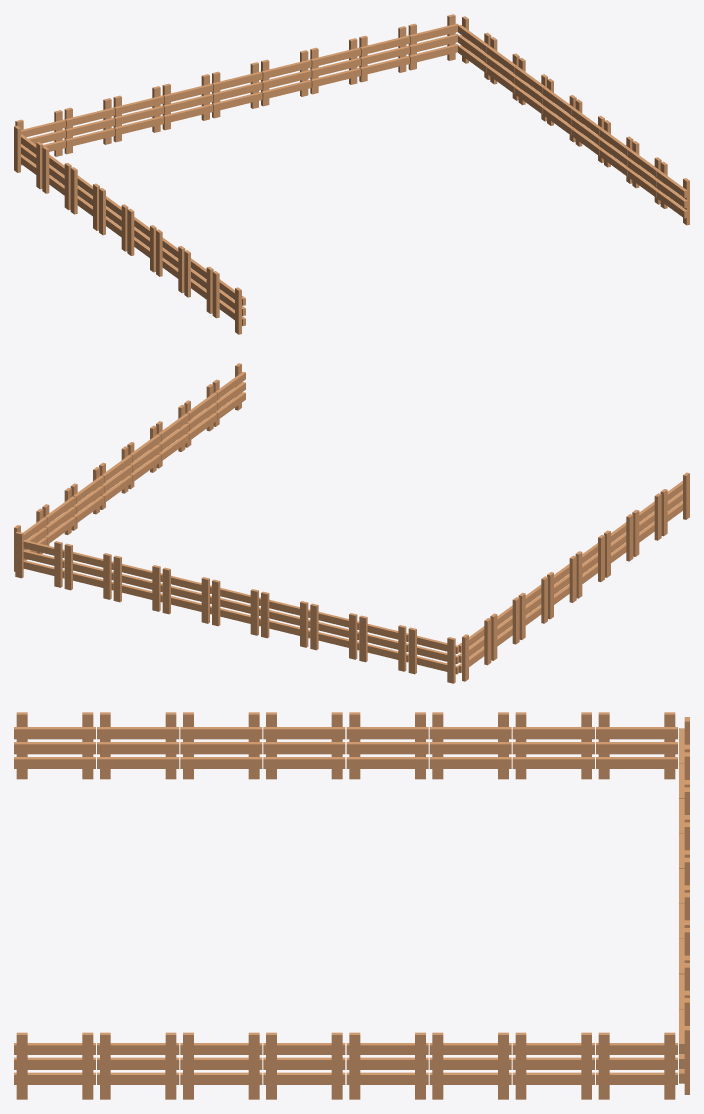
Rendered from fences.glb.
The picture shows the model from 3 angles, top to bottom: view 1: azimuth 30°, elevation 25°; view 2: azimuth 150°, elevation 25°; view 3: azimuth 270°, elevation 25°; orthographic projection. The views are drawn at different scales.
Visible parts, largest first — view 1: Fences; view 2: Fences; view 3: Fences.
Part boxes in pixels (left/top/right/bottom): Fences: left=14, top=14, right=689, bottom=334; Fences: left=14, top=363, right=689, bottom=683; Fences: left=14, top=712, right=689, bottom=1099.
Bounding box in the file's own units: 13.96 × 1.3 × 12.36.
